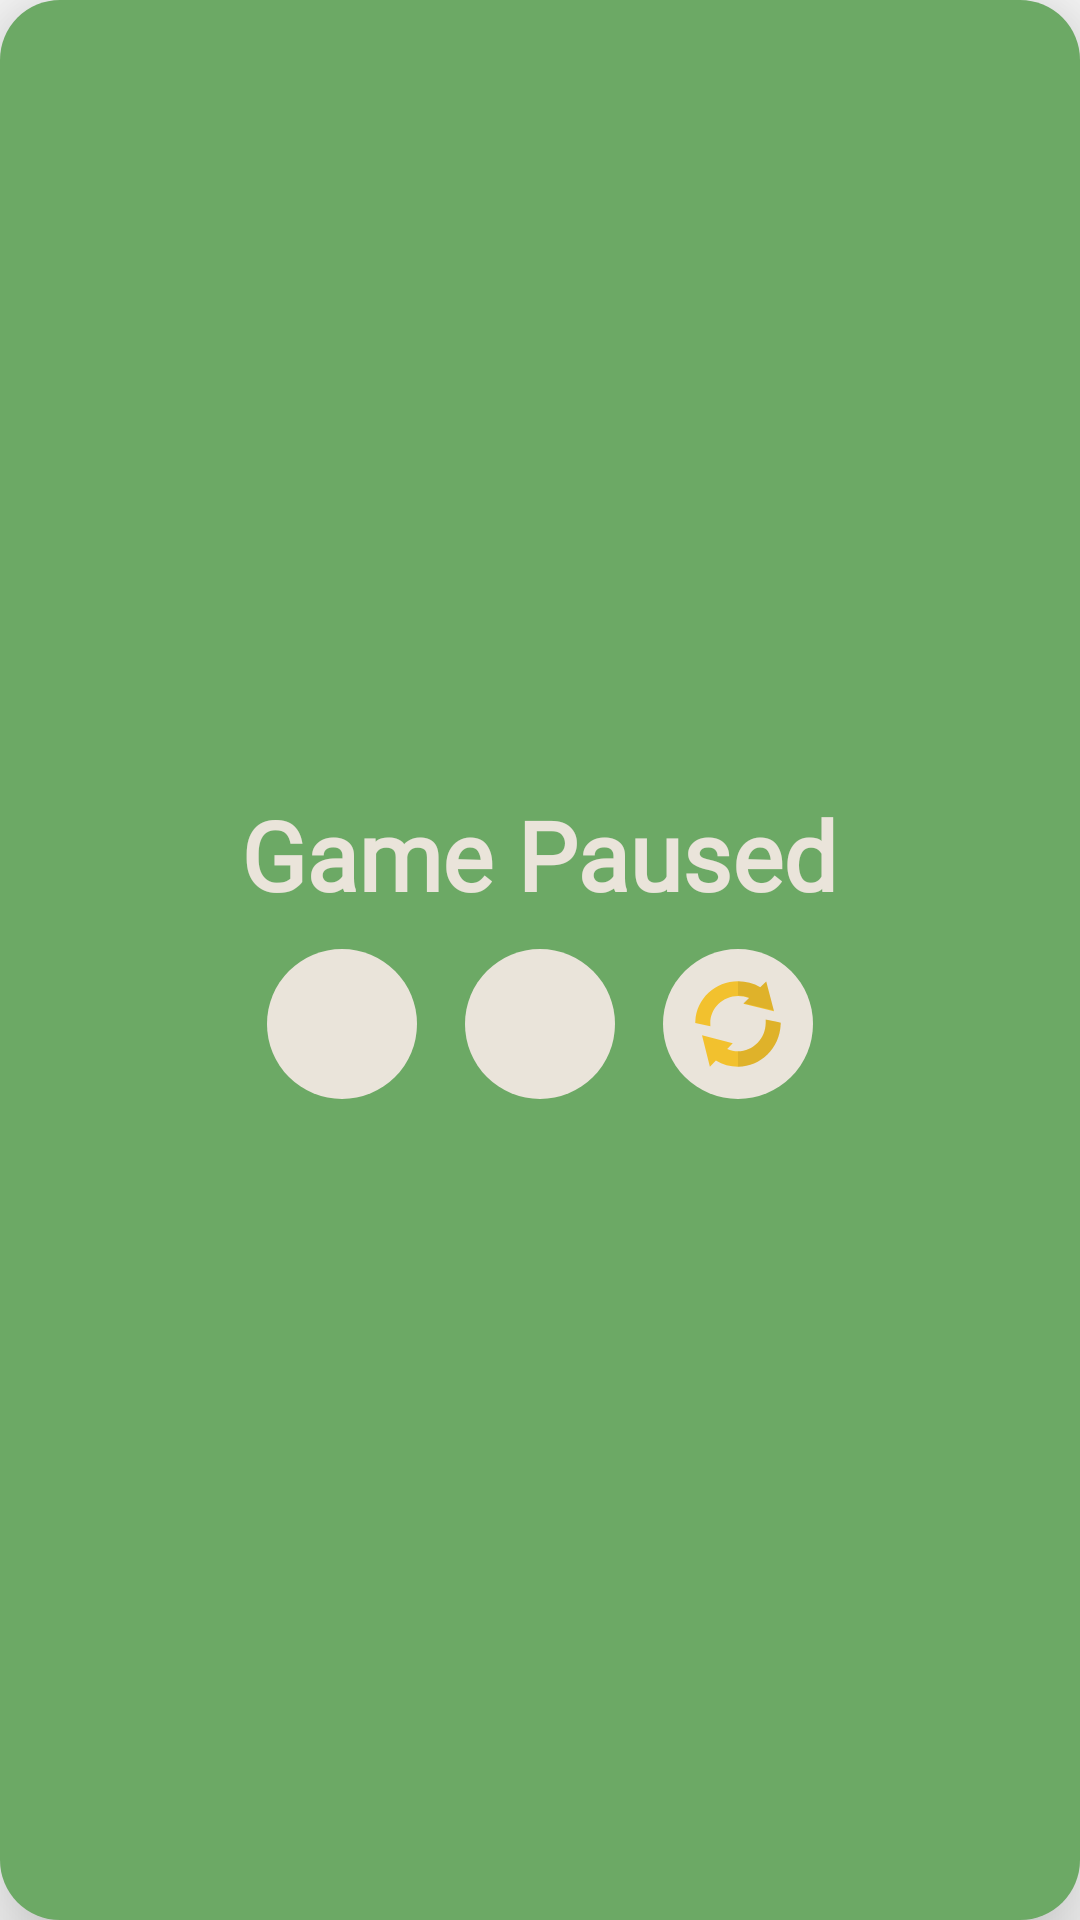

Screen size 1080x1920. Icon name, then its box in pixels as {"left": x1, "top": y1, "right": x2, "bottom": y2}:
restart: {"left": 663, "top": 949, "right": 813, "bottom": 1099}
